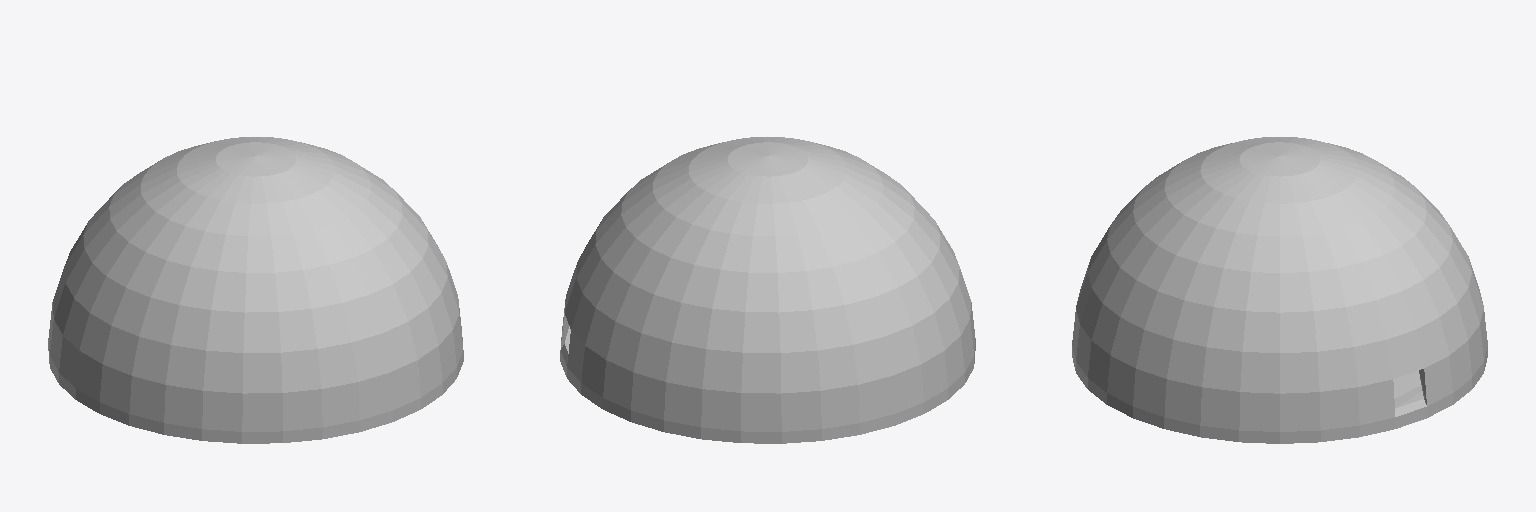
Rendered from roof.obj.
3 renders of one model, left to right at view 1: azimuth 30°, elevation 25°; view 2: azimuth 150°, elevation 25°; view 3: azimuth 270°, elevation 25°, orthographic.
Visible parts, largest first — view 1: Sphere; view 2: Sphere; view 3: Sphere.
Boxes of the visible parts, box(x1,y1,x2,y2) form: Sphere: box(48, 137, 463, 443); Sphere: box(560, 137, 975, 443); Sphere: box(1072, 137, 1487, 443).
Bounding box in the file's own units: 2 × 1.06 × 2.